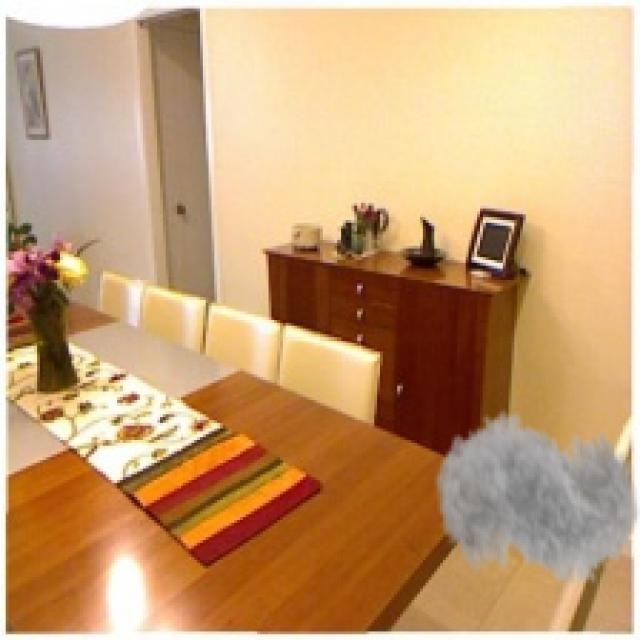smoke: (434, 394, 637, 612)
